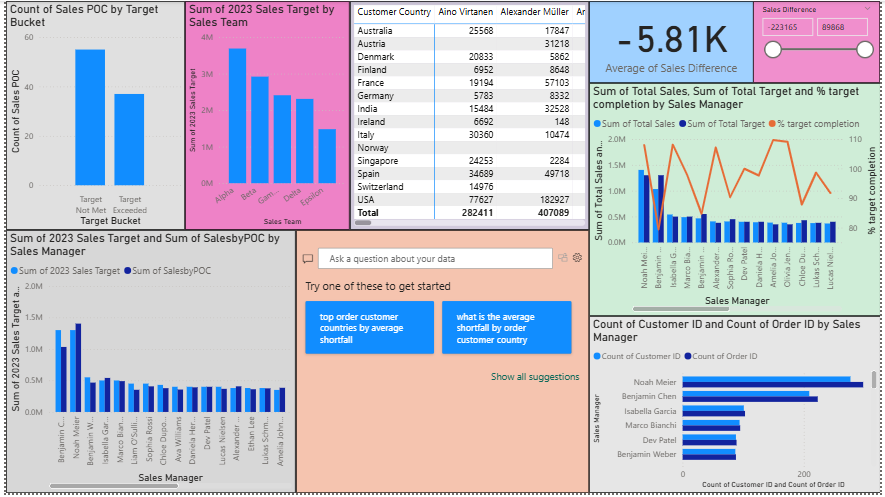

The page's visual inventory and layout, read from the dashboard file:
{"tool":"powerbi","page":{"name":"Sales Team","canvas":[1280,720],"ordinal":0},"visuals":[{"type":"clusteredColumnChart","fields":{"Y":["Count(Sales Targets.Sales POC)"],"Category":["Sales Targets.Target Bucket"]},"box":[0,0,262,334.6],"z":0},{"type":"columnChart","fields":{"Category":["Sales Targets.Sales Team"],"Y":["Sum(Sales Targets.2023 Sales Target)"]},"box":[262,0,240.8,334.6],"z":1},{"type":"clusteredColumnChart","fields":{"Category":["Sales Targets.Sales Manager"],"Y":["Sum(Sales Targets.2023 Sales Target)","Sum(Sales Targets.SalesbyPOC)"]},"box":[0,334.6,424,384.6],"z":2},{"type":"card","fields":{"Values":["Avg(Sales Targets.Sales Difference)"]},"box":[852.5,0,240.8,119.6],"z":3},{"type":"slicer","fields":{"Values":["Sales Targets.Sales Difference"]},"box":[1093.3,0,186.2,119.6],"z":4},{"type":"lineClusteredColumnComboChart","fields":{"Category":["Sales Manager Target Completion.Sales Manager"],"Y2":["Sum(Sales Manager Target Completion.% target completion)"],"Y":["Sum(Sales Manager Target Completion.Total Sales)","Sum(Sales Manager Target Completion.Total Target)"]},"box":[852.5,119.6,427,340.7],"z":5},{"type":"pivotTable","fields":{"Rows":["Customers.Customer Country"],"Columns":["Sales Targets.Sales Manager"],"Values":["Sum(Orders.Order Value)"]},"box":[502.7,0,349.8,334.6],"z":6},{"type":"clusteredBarChart","fields":{"Category":["Sales Targets.Sales Manager"],"Y":["Count(Orders.Customer ID)","Count(Orders.Order ID)"]},"box":[852.5,460.3,427,258.9],"z":7},{"type":"qnaVisual","box":[424,334.6,428.5,384.6],"z":8}]}

Visuals, with their boxes in screenshot pixels (x1, y1, x2, y2), scaled from the page's 1280x720 canvas onto the 885x497 screenshot:
clusteredColumnChart - Count(Sales Targets.Sales POC) x Sales Targets.Target Bucket: 0:0:181:231
columnChart - Sales Targets.Sales Team x Sum(Sales Targets.2023 Sales Target): 181:0:348:231
clusteredColumnChart - Sales Targets.Sales Manager x Sum(Sales Targets.2023 Sales Target): 0:231:293:496
card - Avg(Sales Targets.Sales Difference): 589:0:756:83
slicer - Sales Targets.Sales Difference: 756:0:884:83
lineClusteredColumnComboChart - Sales Manager Target Completion.Sales Manager x Sum(Sales Manager Target Completion.% target completion): 589:83:884:318
pivotTable - Customers.Customer Country x Sales Targets.Sales Manager: 348:0:589:231
clusteredBarChart - Sales Targets.Sales Manager x Count(Orders.Customer ID): 589:318:884:496
qnaVisual: 293:231:589:496
